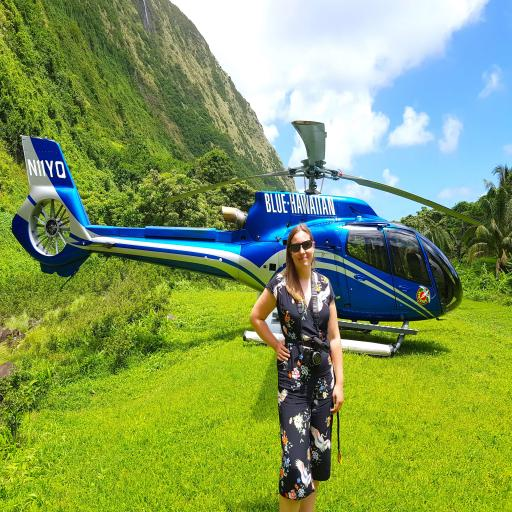helicopter: (6, 115, 478, 365)
